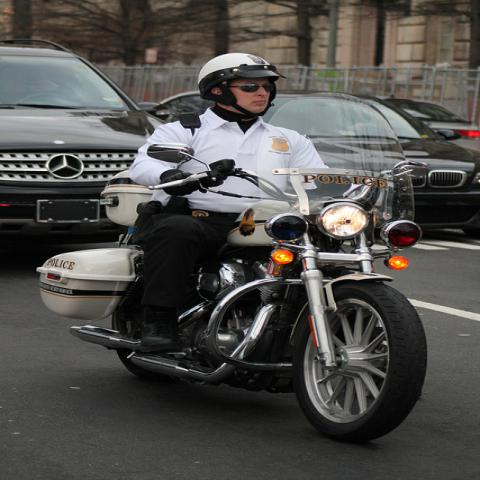car: (139, 90, 479, 238), (0, 38, 168, 246), (380, 98, 479, 153)
motorcycle: (82, 143, 470, 444)
